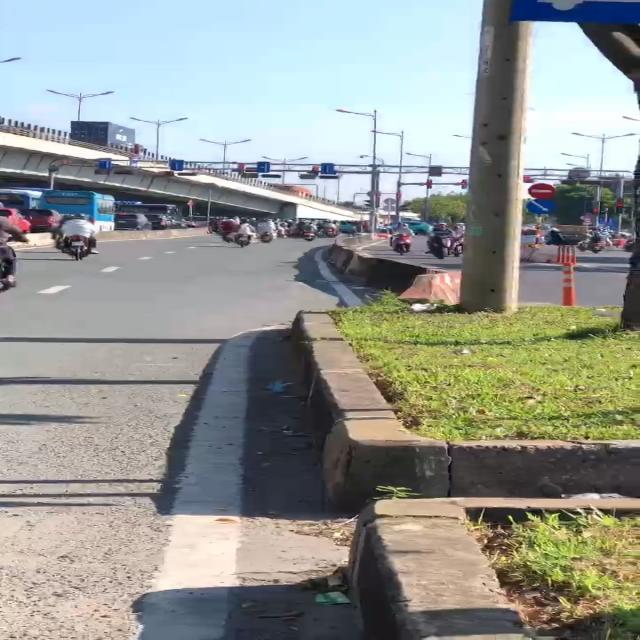Bien bao cam di nguoc chieu: (526, 182, 564, 200)
Bien bao huong phai di vong chuong ngai vat: (527, 197, 560, 216)
